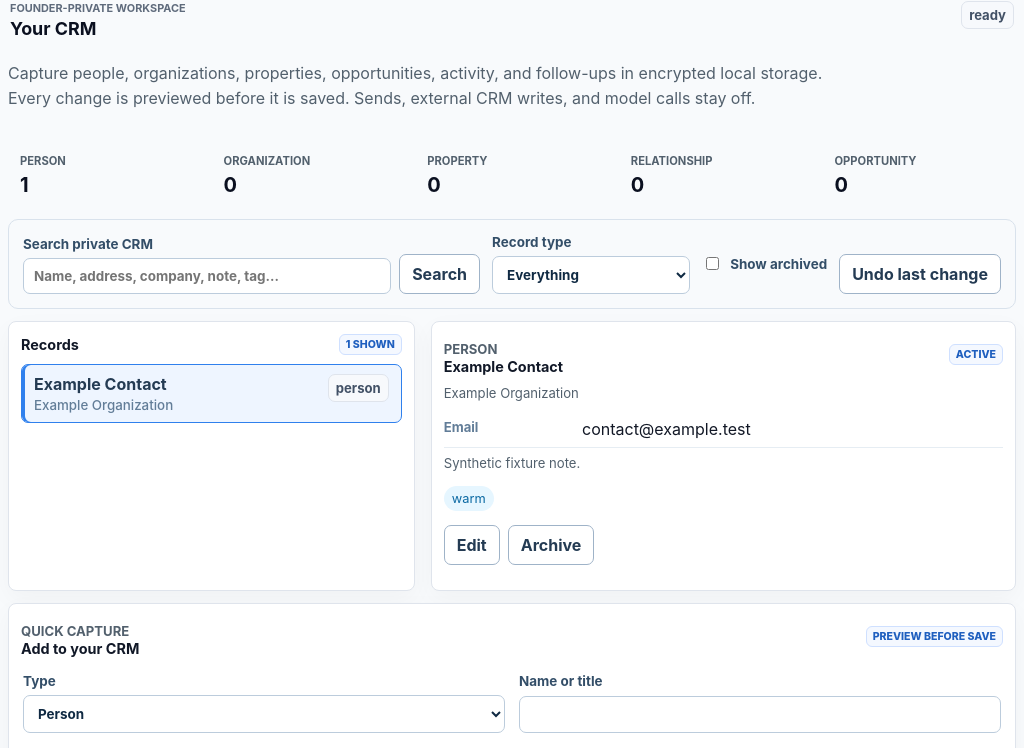
Scenario: CrmAdoptionWorkspace › clears the editor when a refreshed filter no longer returns the record
Click the button "Edit": [472, 546] box [444,526,500,566]
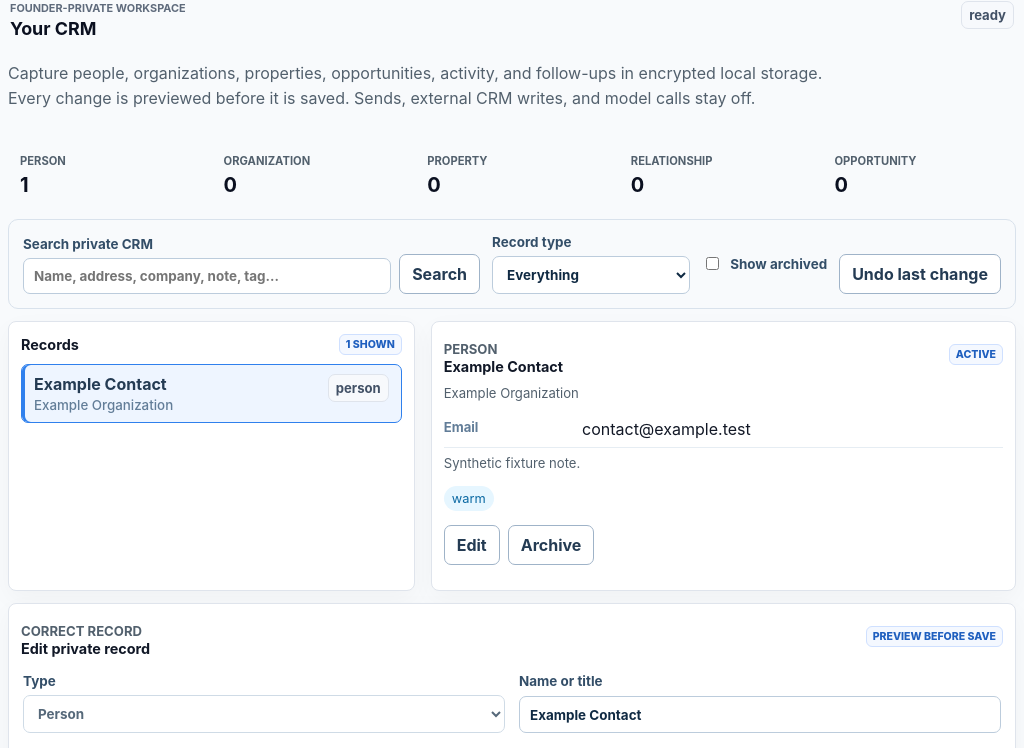
Select "Organization" in the dropdown labelled "Record type": [591, 275] box [492,256,690,294]
(page scrolled)
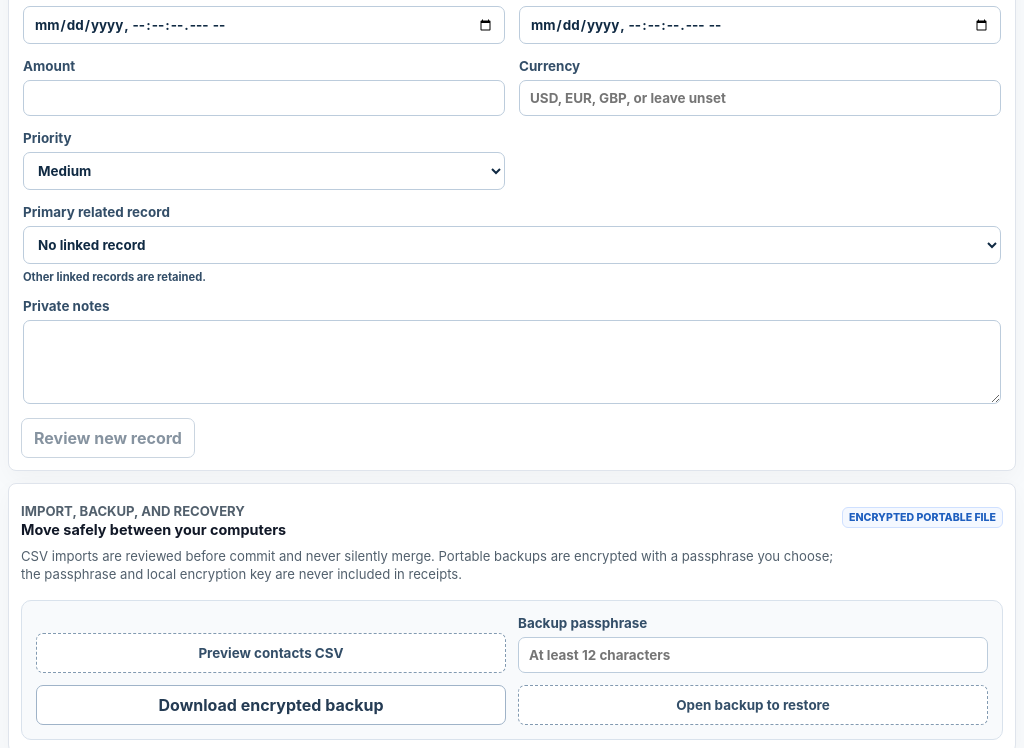
Expected: the button "Review new record" is shown, [21,418,195,458]
